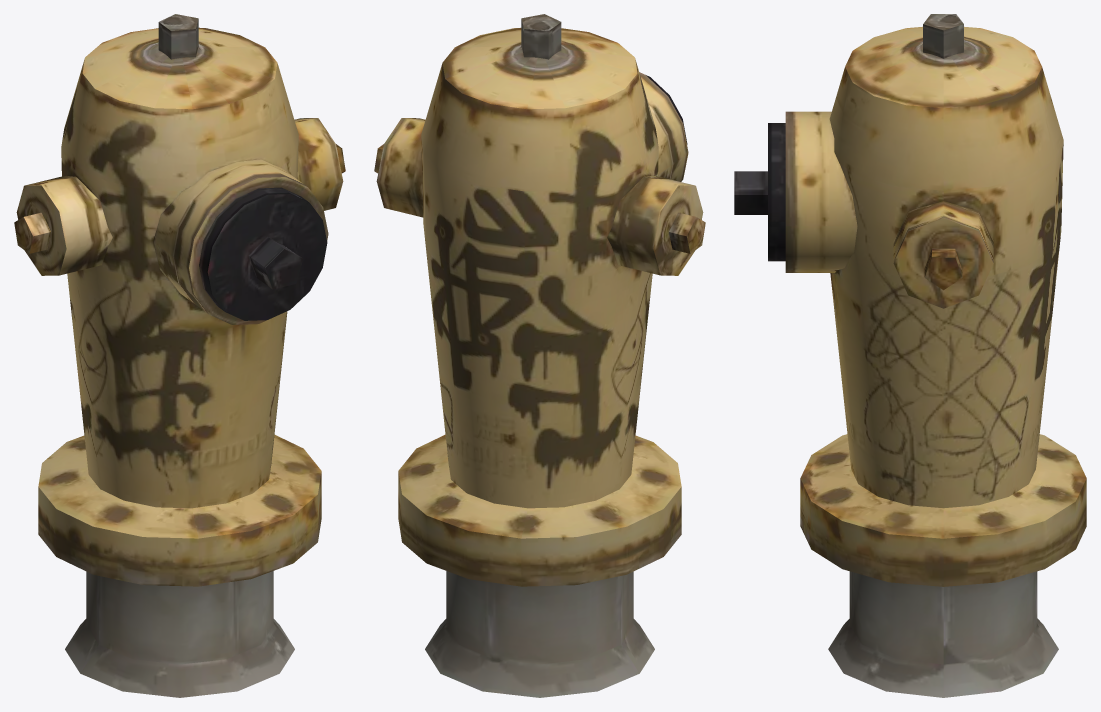
File: hydrant.glb
3 renders of one model, left to right at view 1: azimuth 30°, elevation 25°; view 2: azimuth 150°, elevation 25°; view 3: azimuth 270°, elevation 25°, orthographic.
Parts seen in each view (by area): view 1: low; view 2: low; view 3: low.
Boxes of the visible parts, box(x1,y1,x2,y2) form: low: box(14, 14, 345, 697); low: box(374, 14, 705, 697); low: box(734, 14, 1086, 697).
Bounding box in the file's own units: 0.4701 × 0.9 × 0.458.
1 material, 1 textured.
